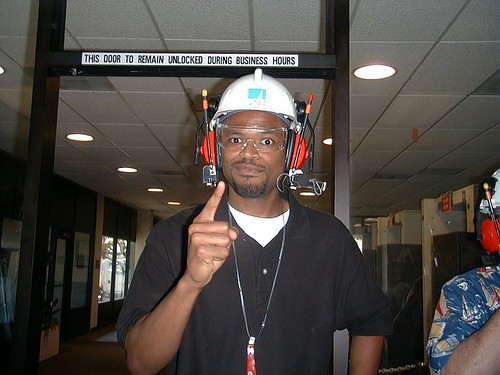person hardhat: (208, 68, 300, 197)
